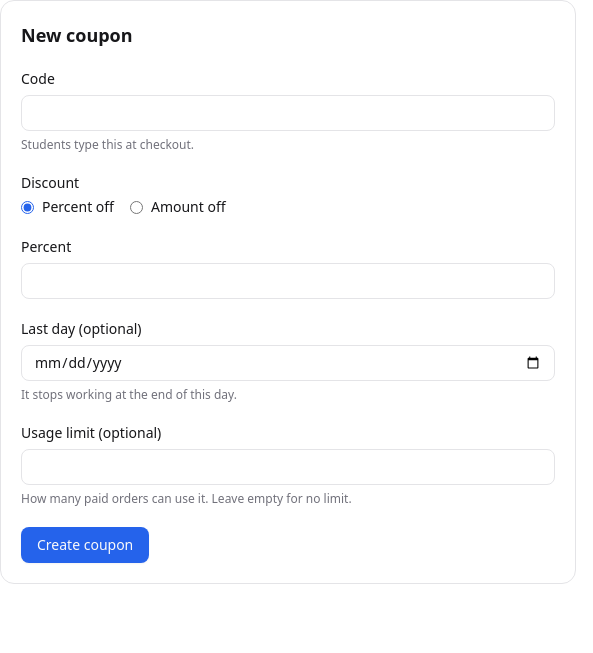
Test: CouponForm › marks the fields the server rejected
Type "TAKEN" into the field labelled "Code".
click(288, 113); type("TAKEN")  # box [21,95,555,131]
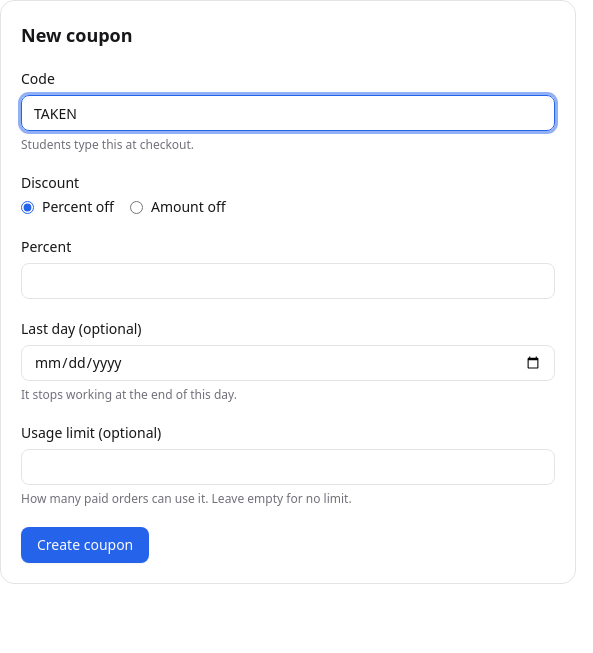
Type "20" into the number field labelled "Percent".
click(288, 281); type("20")  # box [21,263,555,299]
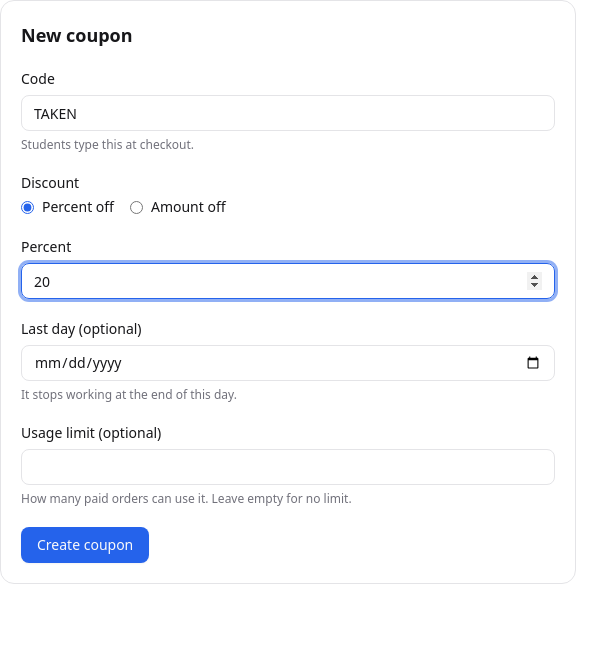
Click the button "Create coupon".
click(85, 545)  # box [21,527,149,563]
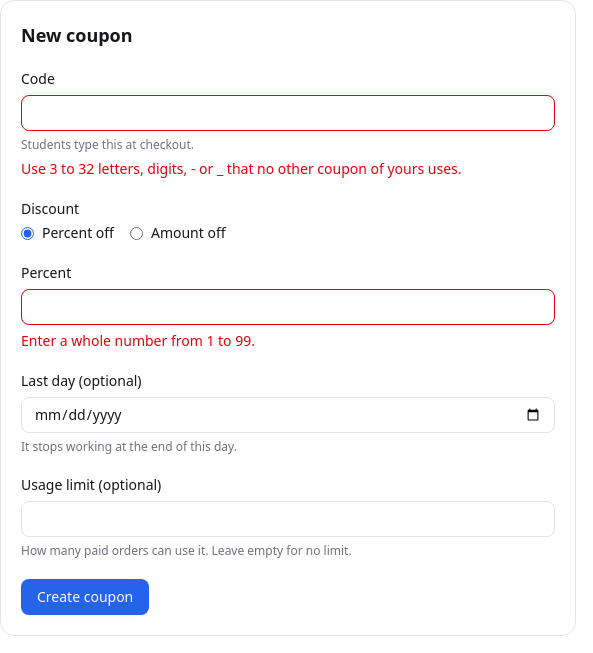
Now the text "Use 3 to 32 letters, digits, - or _ that no other coupon of yours uses." is shown, box [21,159,462,178]
